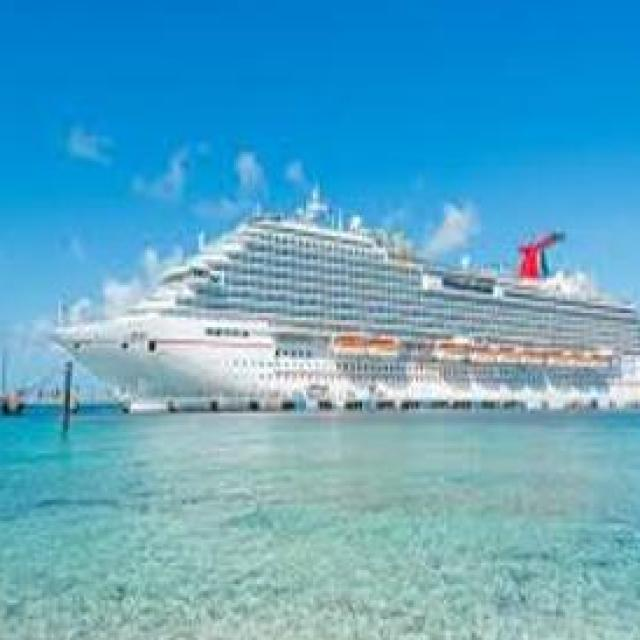passenger ship: (44, 201, 640, 413)
